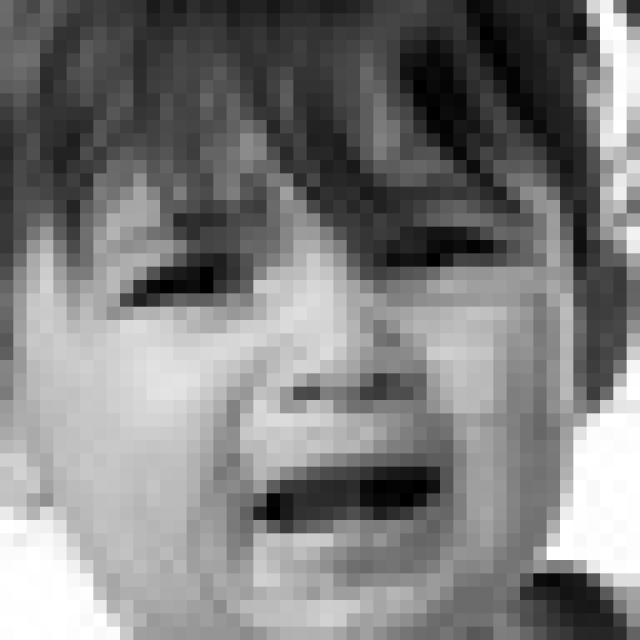sad: (90, 168, 549, 618)
